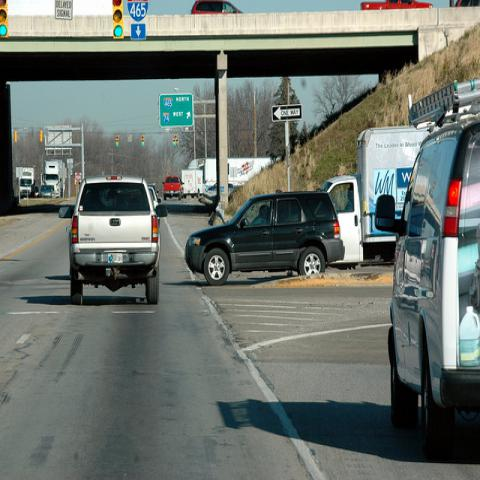car: (373, 116, 478, 451), (184, 192, 344, 288), (55, 176, 170, 302), (181, 169, 206, 199), (162, 174, 183, 200), (39, 185, 52, 198), (33, 185, 40, 198)
truck: (319, 126, 428, 268), (42, 160, 66, 198), (20, 167, 36, 198)
